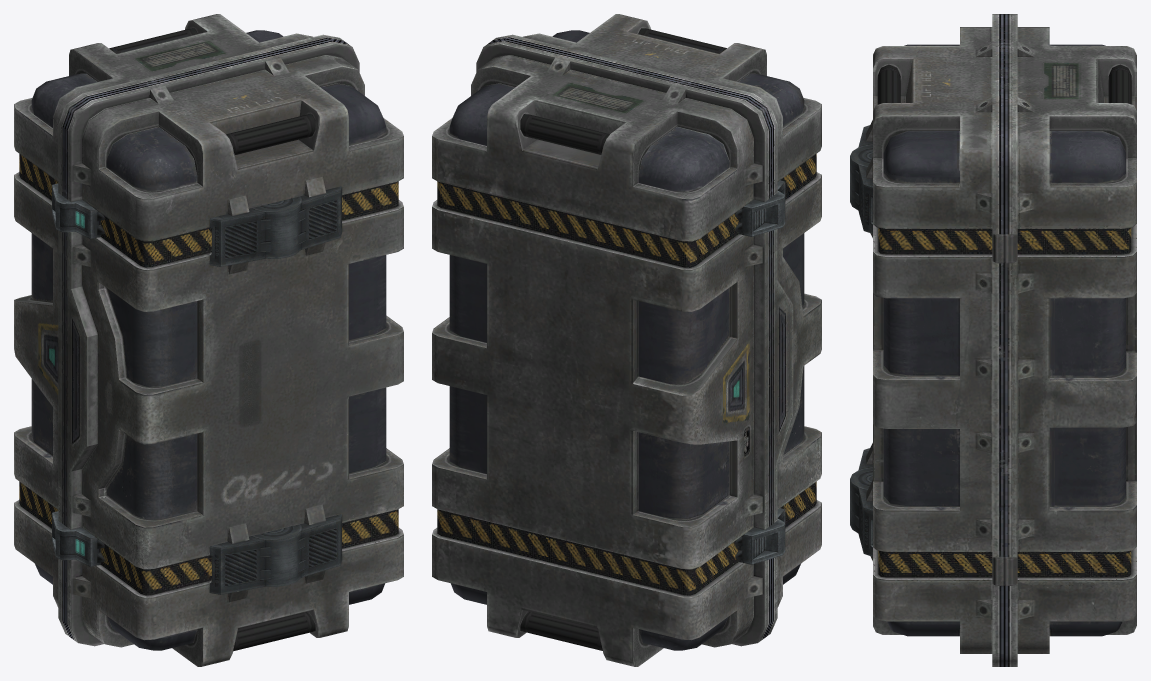
Rendered from t6_wpn_supply_drop_hq_LOD0.obj.
3 renders of one model, left to right at view 1: azimuth 30°, elevation 25°; view 2: azimuth 150°, elevation 25°; view 3: azimuth 270°, elevation 25°, orthographic.
Parts seen in each view (by area): view 1: mtl_t6_wpn_supply_drop_hq; view 2: mtl_t6_wpn_supply_drop_hq; view 3: mtl_t6_wpn_supply_drop_hq.
Part boxes in pixels (box(x1,y1,x2,y2)): mtl_t6_wpn_supply_drop_hq: box(14, 14, 403, 666); mtl_t6_wpn_supply_drop_hq: box(432, 14, 821, 666); mtl_t6_wpn_supply_drop_hq: box(850, 14, 1136, 666).
Size of the model in its own units: 108 by 187 by 90.68.
